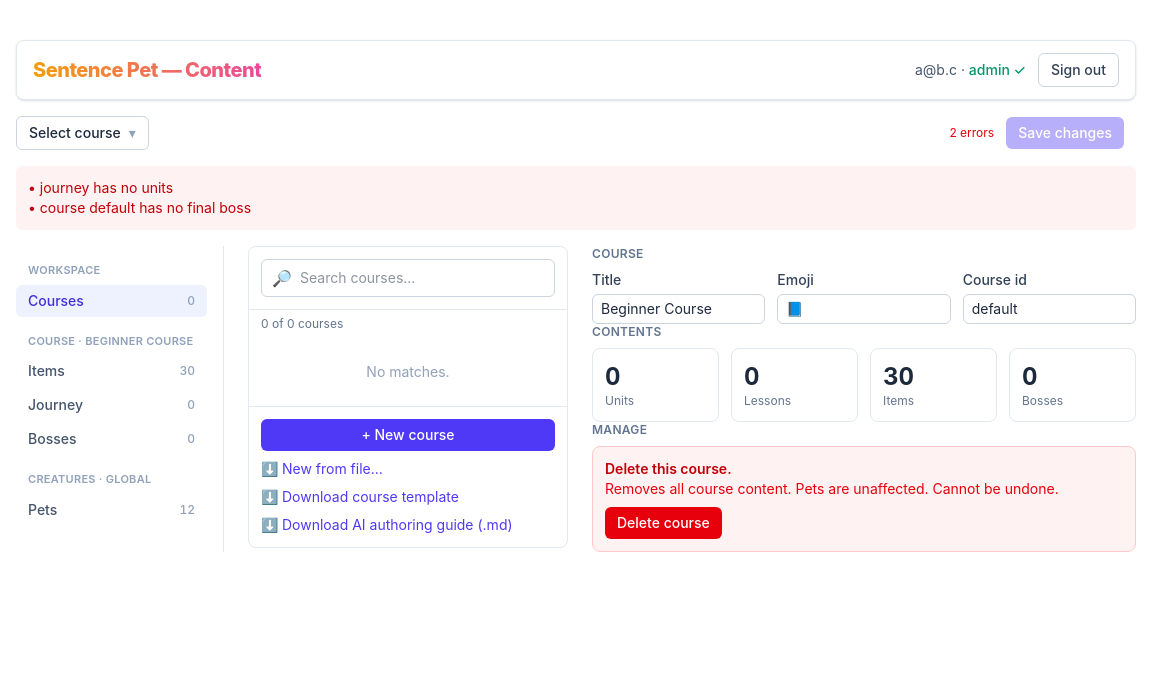
Test case: AdminShell › hides the course ValidationSummary on the Pets surface (no course SaveBar there to act on)
Expected: the list item "• journey has no units" is shown, 28,179 -> 173,196
// Switching to Pets hides the course-level validation noise.
Click the tab "Pets 12" at (112, 510), box 16,494 -> 207,526
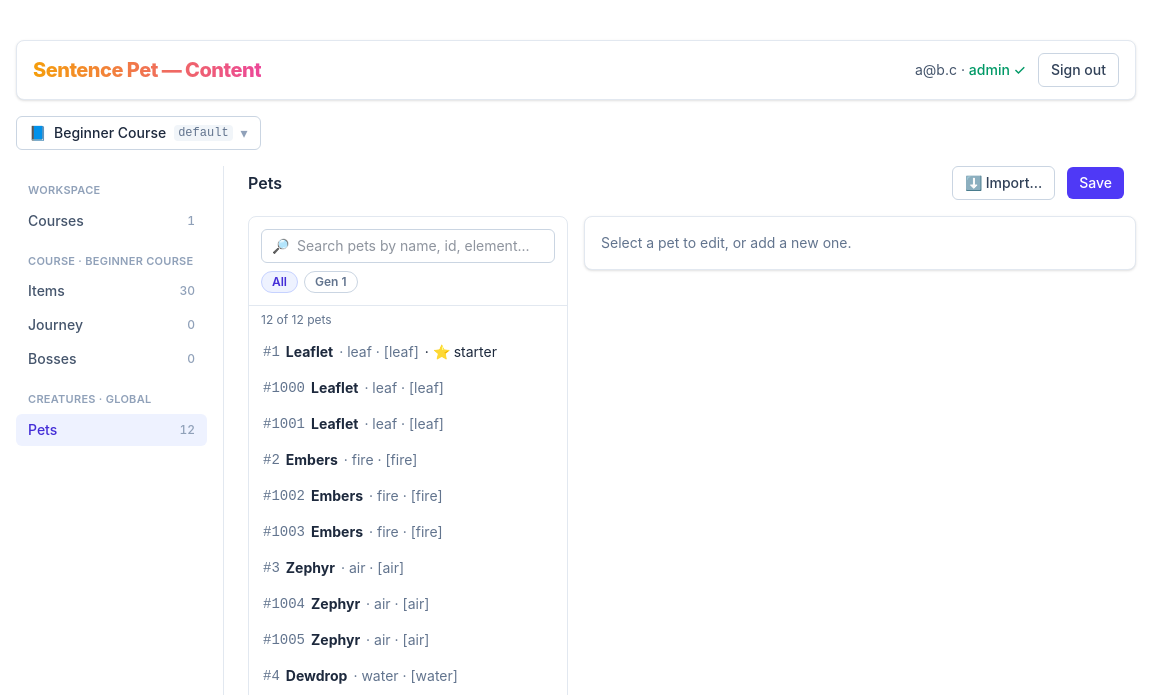
Expected: the list item "journey has no units" is gone
